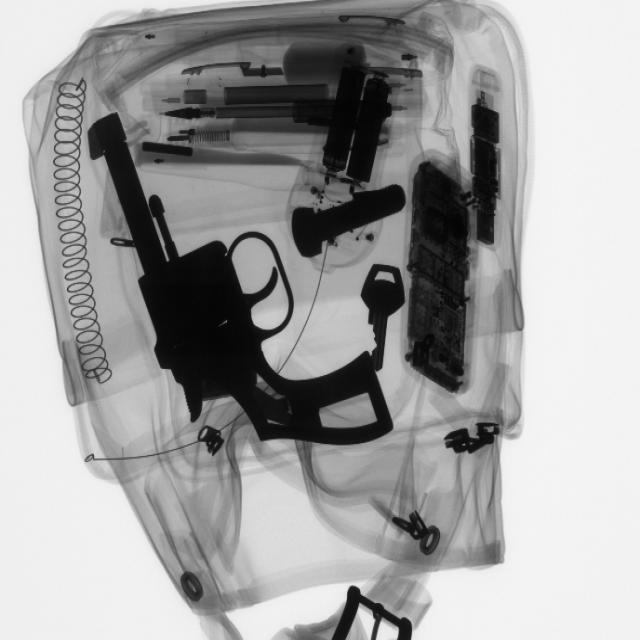GUN: (91, 118, 405, 464)
